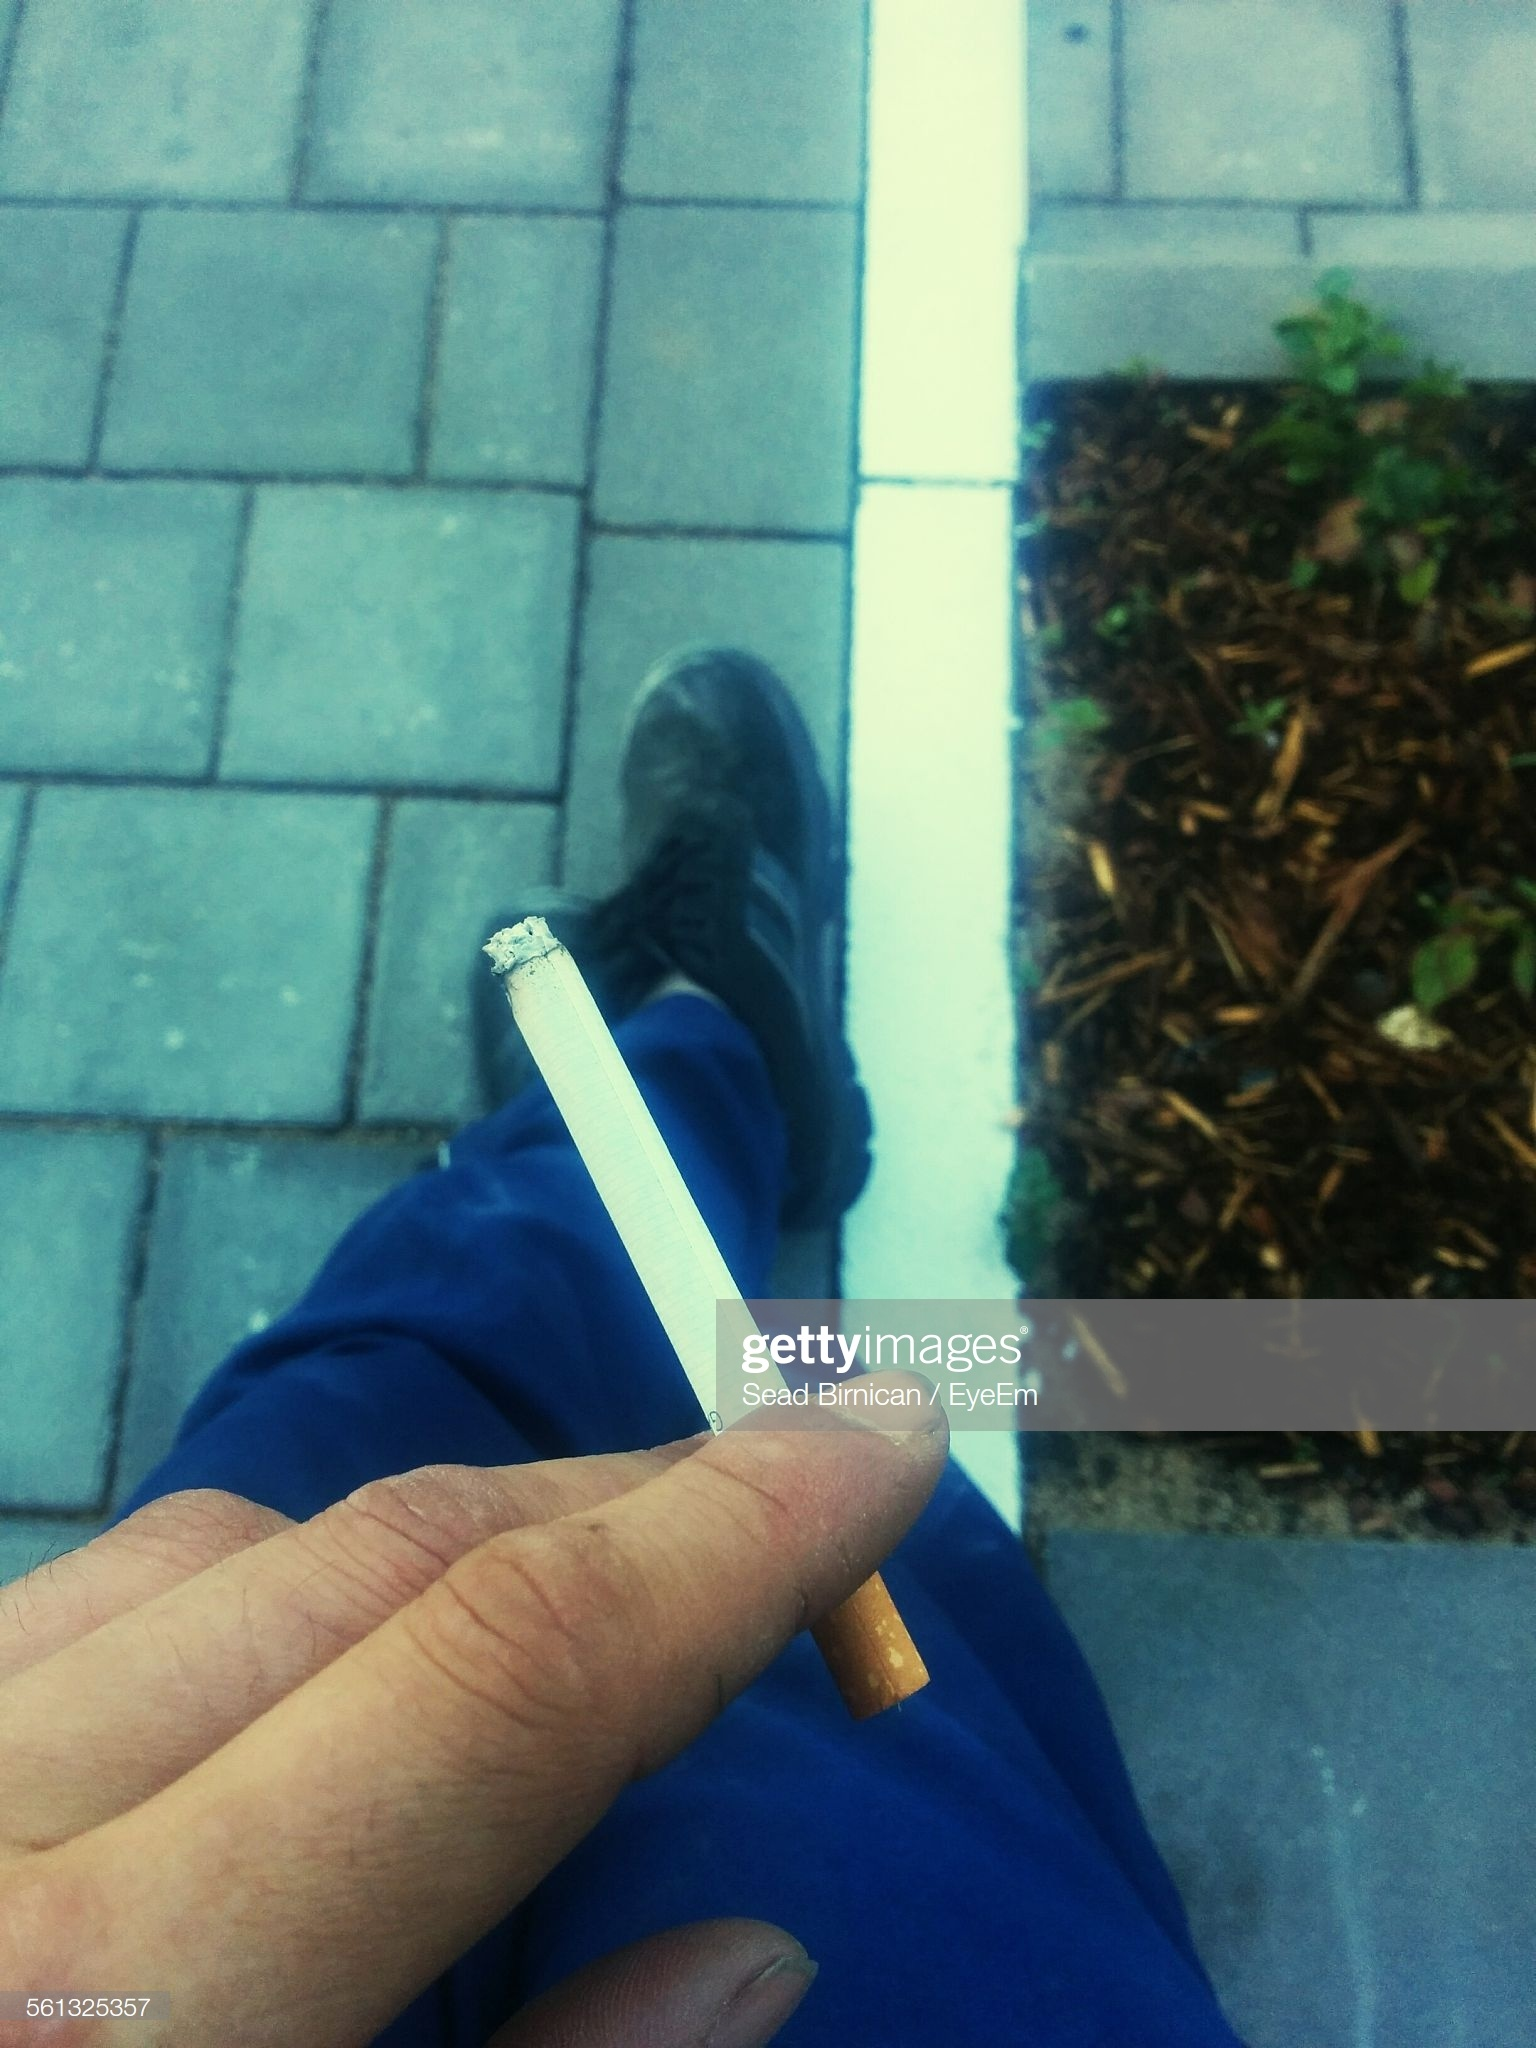sigaretta: (470, 922, 936, 1721)
